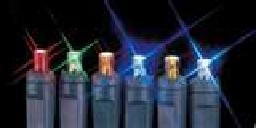LED: (157, 44, 183, 87), (124, 43, 153, 80), (59, 41, 87, 76), (191, 48, 220, 81), (94, 43, 120, 79), (27, 43, 54, 74)
